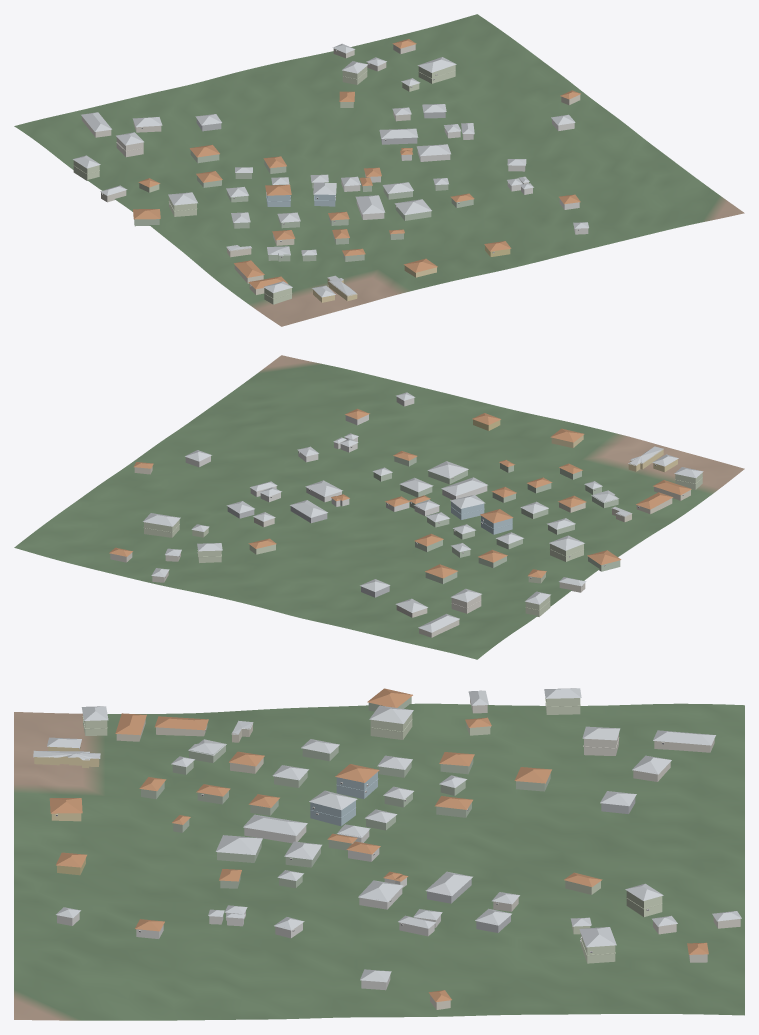
The picture shows the model from 3 angles, top to bottom: view 1: azimuth 30°, elevation 25°; view 2: azimuth 150°, elevation 25°; view 3: azimuth 270°, elevation 25°; orthographic projection. The views are drawn at different scales.
Visible parts, largest first — view 1: Terrain-col, Buildings-col; view 2: Terrain-col, Buildings-col; view 3: Terrain-col, Buildings-col, Details.
Boxes of the visible parts, x1,y1,x2,y2 form: Terrain-col: (14,14,744,326); Buildings-col: (73,39,588,304); Terrain-col: (14,355,744,659); Buildings-col: (109,392,703,637); Terrain-col: (14,703,744,1020); Buildings-col: (33,688,741,1009); Details: (55,698,664,955).
Size of the model in its own units: 263 by 12.32 by 256.
